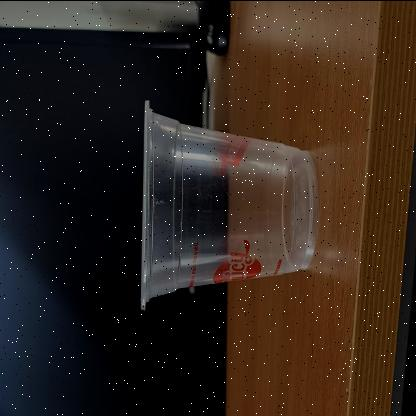Others: (140, 95, 316, 310)
